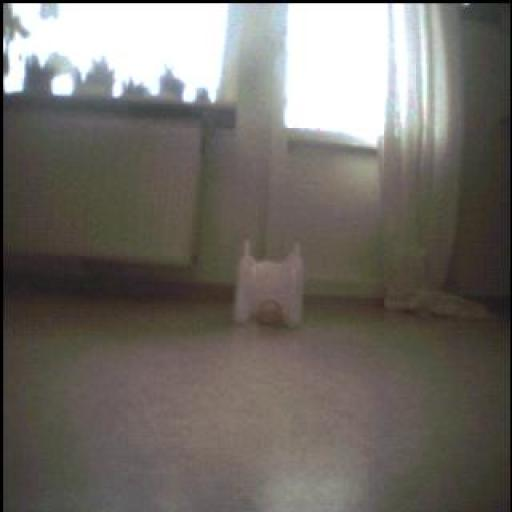Basket: (256, 298, 285, 328)
